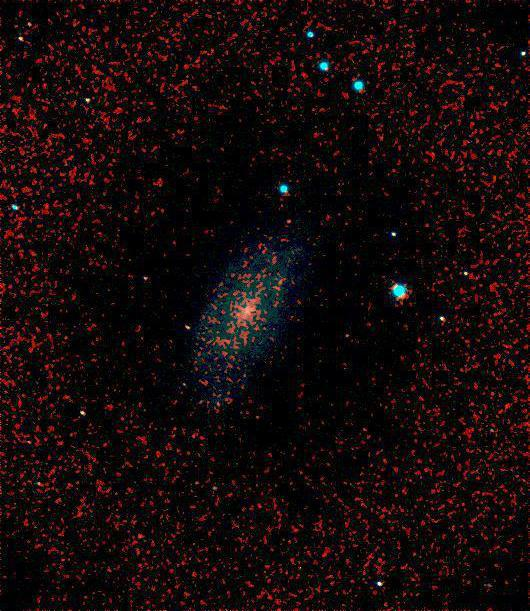star: (365, 571, 395, 601)
